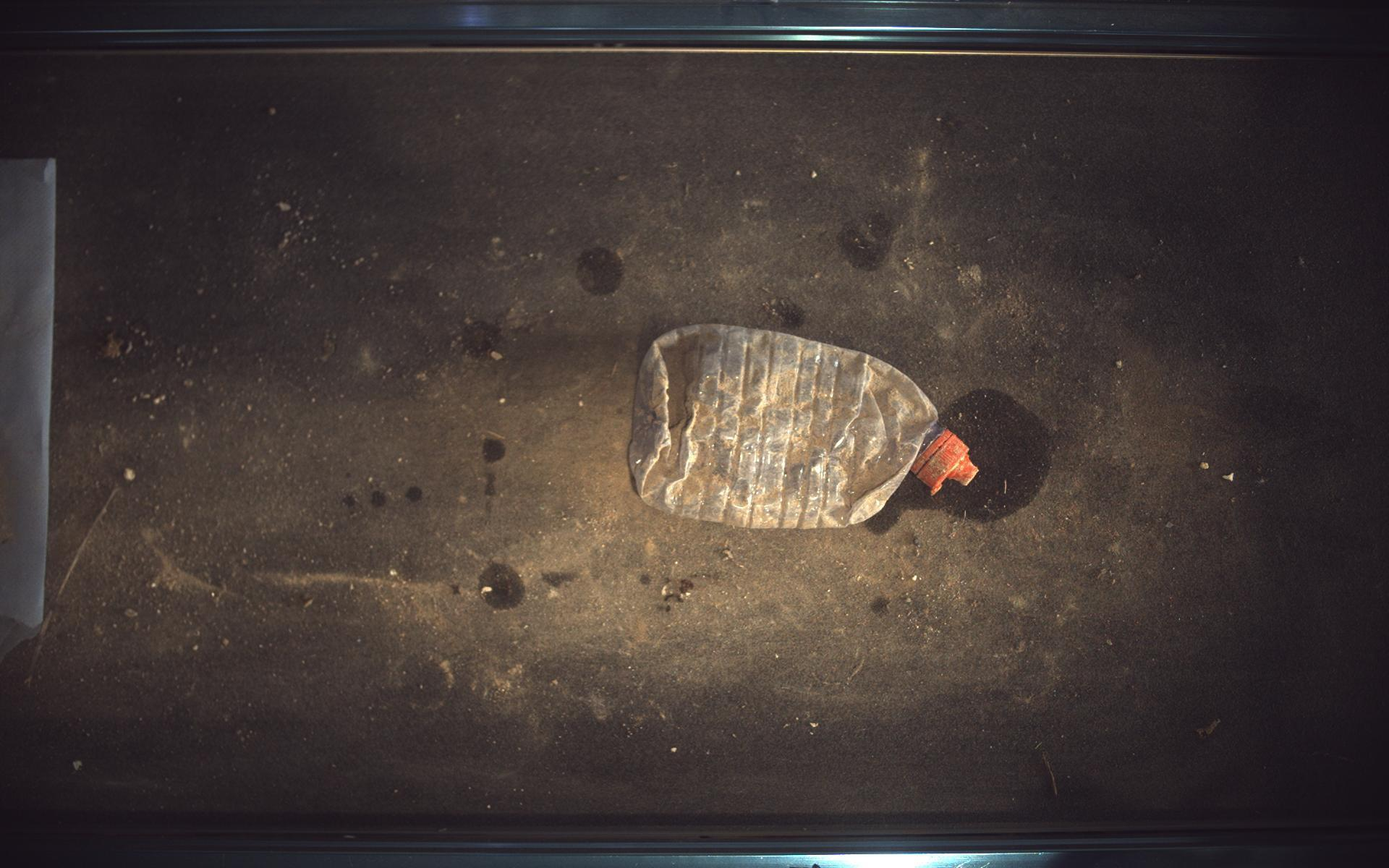general_w: (629, 324, 980, 529)
